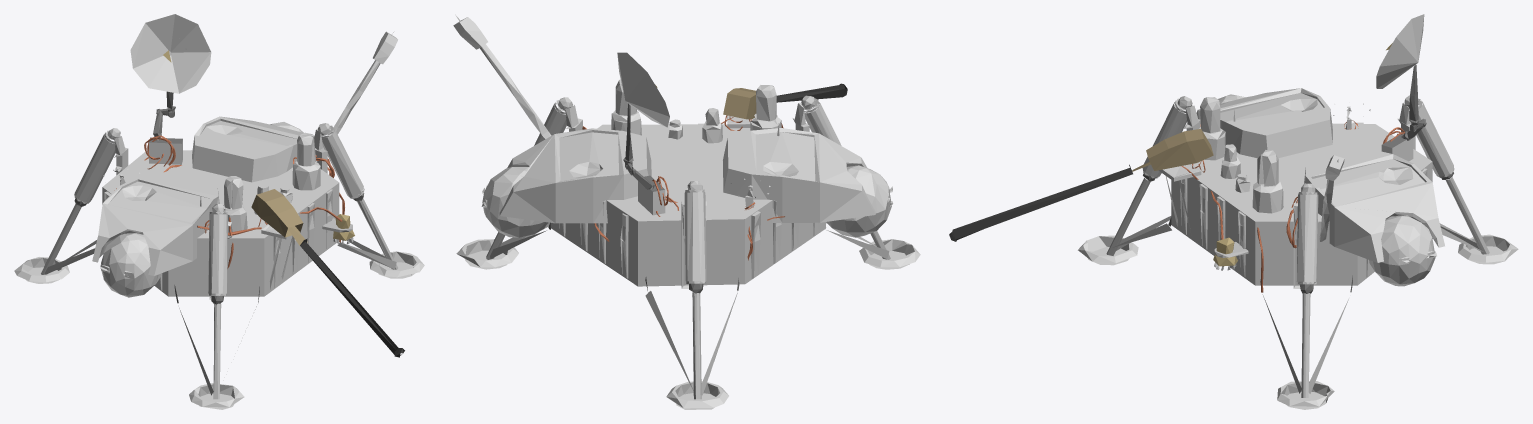
The model's file is viking.glb.
3 views of the same model, side by side, from view 1: azimuth 30°, elevation 25°; view 2: azimuth 150°, elevation 25°; view 3: azimuth 270°, elevation 25° (orthographic). The views are drawn at different scales.
Visible parts, largest first — view 1: body; view 2: body; view 3: body.
Boxes of the visible parts, <box> form: body: <box>14,14,424,409</box>; body: <box>453,14,920,409</box>; body: <box>949,14,1518,409</box>.
Size of the model in its own units: 1.8 by 1.29 by 2.3.
